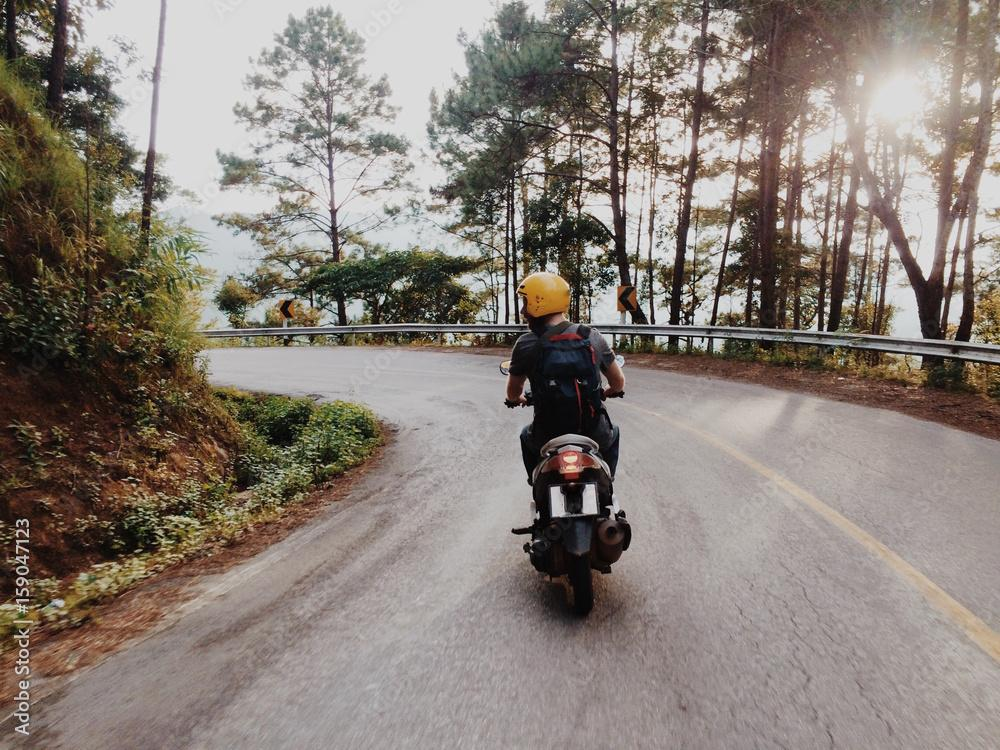helmet: (516, 271, 573, 331)
